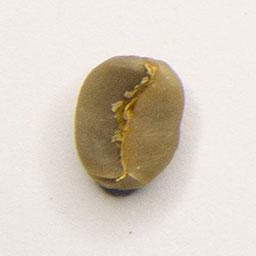premium: (70, 50, 188, 197)
